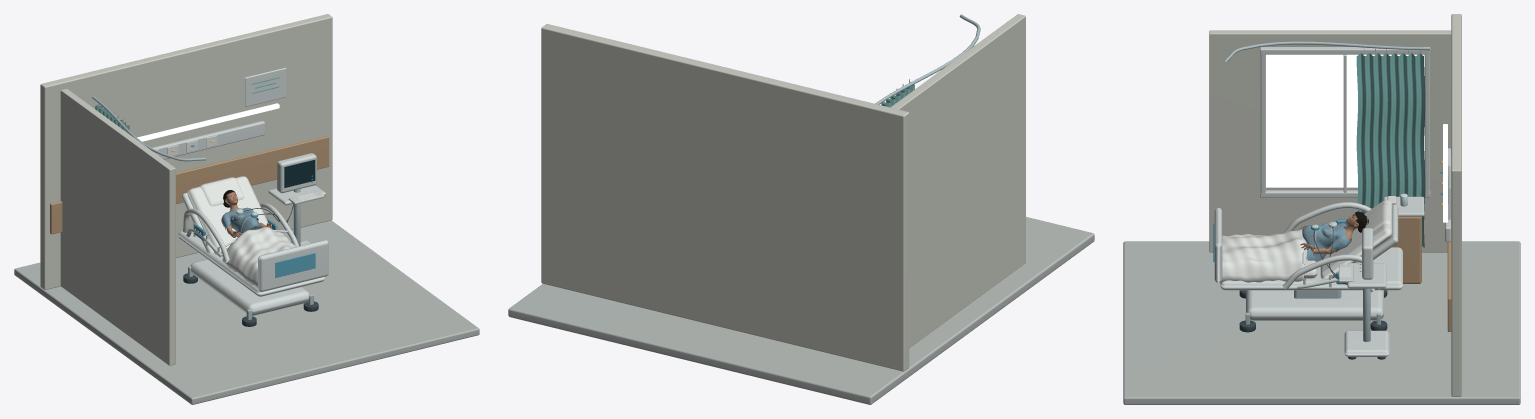
File: fhr-room.glb
The picture shows the model from 3 angles, left to right: view 1: azimuth 30°, elevation 25°; view 2: azimuth 150°, elevation 25°; view 3: azimuth 270°, elevation 25°; orthographic projection. The views are drawn at different scales.
Visible parts, largest first — view 1: Room_static_Linen_warm_wall, Room_static_Matte_warm_grey_floor, Room_static_Warm_hospital_enamel, Room_static_Clean_warm_cotton, Room_static_Ash_wood_laminate, Room_static_Bed_frame_satin_aluminum, Room_static_Warm_headlight_glow, Room_static_Clinical_blue_accent, Monitor_screen, Patient_chest, Room_static_Caster_rubber_and_accents; view 2: Room_static_Linen_warm_wall, Room_static_Matte_warm_grey_floor, Room_static_Bed_frame_satin_aluminum; view 3: Room_static_Matte_warm_grey_floor, Room_static_Linen_warm_wall, Room_static_Warm_hospital_enamel, Room_static_Soft_daylight_glazing, Curtain_dynamic, Room_static_Clean_warm_cotton, Room_static_Ash_wood_laminate, Room_static_Bed_frame_satin_aluminum, Patient_chest, Room_static_Caster_rubber_and_accents, Room_static_Warm_headlight_glow.
Boxes of the visible parts, x1,y1,x2,y2 form: Room_static_Linen_warm_wall: [40, 14, 332, 365]; Room_static_Matte_warm_grey_floor: [14, 220, 479, 404]; Room_static_Warm_hospital_enamel: [98, 67, 328, 315]; Room_static_Clean_warm_cotton: [154, 135, 317, 287]; Room_static_Ash_wood_laminate: [50, 136, 329, 234]; Room_static_Bed_frame_satin_aluminum: [92, 96, 313, 319]; Room_static_Warm_headlight_glow: [137, 103, 279, 141]; Room_static_Clinical_blue_accent: [191, 145, 315, 277]; Monitor_screen: [284, 159, 315, 187]; Patient_chest: [221, 207, 260, 236]; Room_static_Caster_rubber_and_accents: [173, 141, 318, 326]; Room_static_Linen_warm_wall: [541, 14, 1025, 371]; Room_static_Matte_warm_grey_floor: [508, 217, 1094, 404]; Room_static_Bed_frame_satin_aluminum: [875, 14, 980, 104]; Room_static_Matte_warm_grey_floor: [1123, 241, 1520, 404]; Room_static_Linen_warm_wall: [1209, 14, 1461, 396]; Room_static_Warm_hospital_enamel: [1214, 47, 1450, 356]; Room_static_Soft_daylight_glazing: [1266, 54, 1424, 187]; Curtain_dynamic: [1356, 53, 1425, 247]; Room_static_Clean_warm_cotton: [1221, 196, 1396, 282]; Room_static_Ash_wood_laminate: [1392, 157, 1451, 331]; Room_static_Bed_frame_satin_aluminum: [1225, 41, 1429, 341]; Patient_chest: [1302, 223, 1351, 261]; Room_static_Caster_rubber_and_accents: [1239, 227, 1387, 359]; Room_static_Warm_headlight_glow: [1443, 124, 1447, 222].
Bounding box in the file's own units: 4.3 × 3.01 × 4.6.
23 materials, 2 textured.
